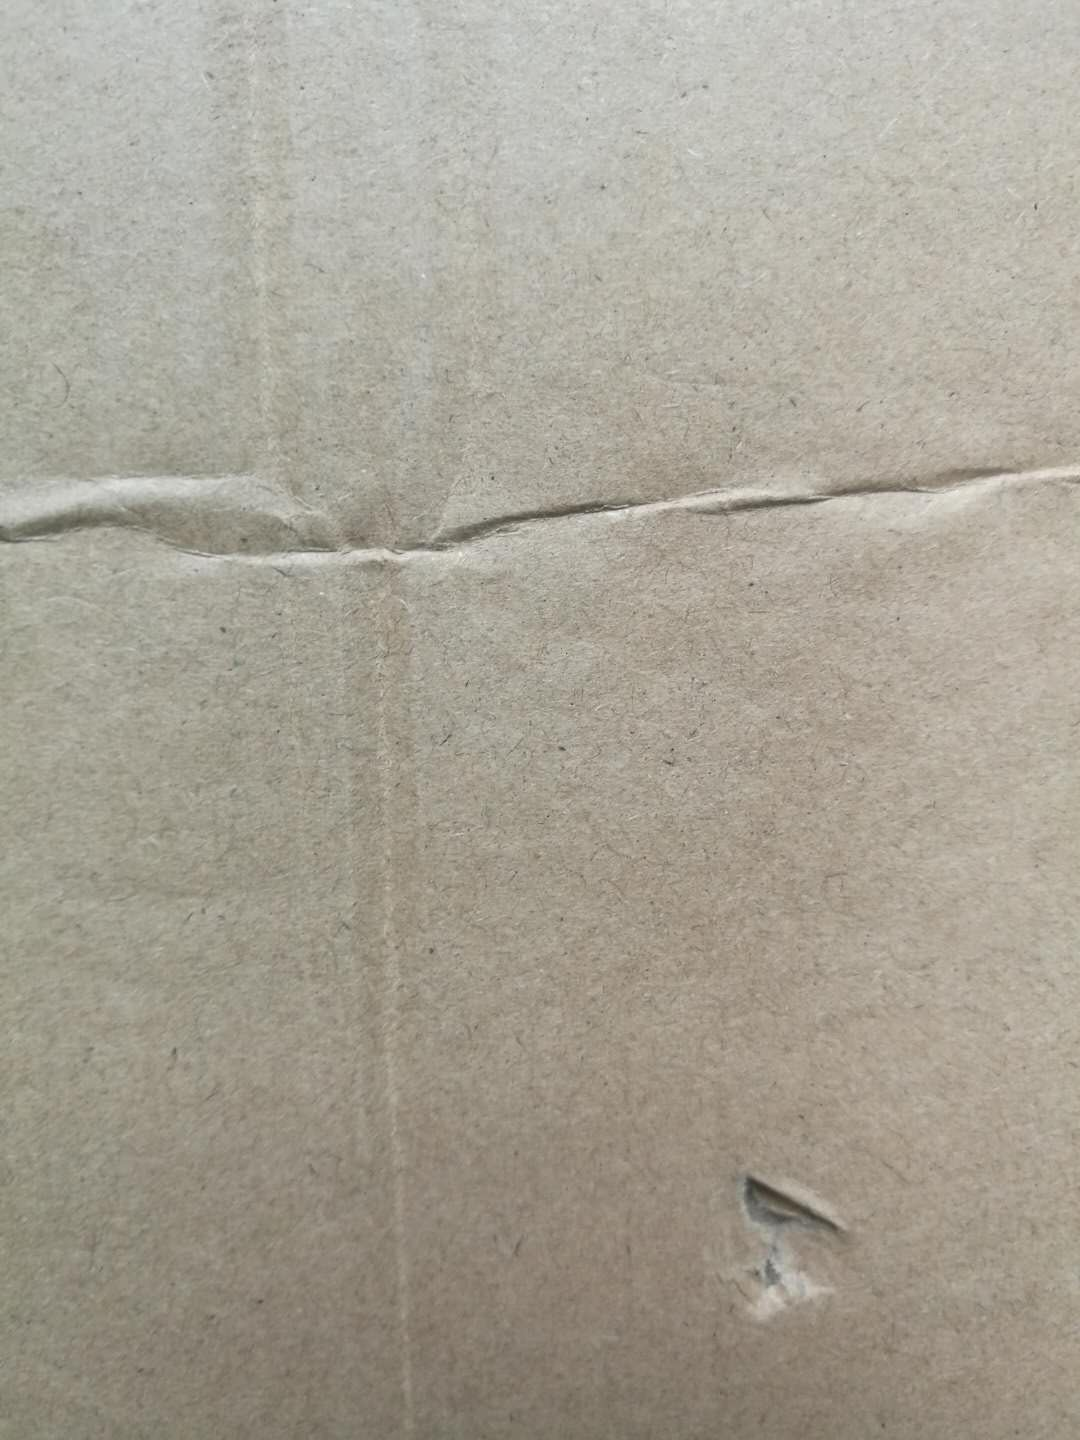defect: (5, 424, 1080, 610), (314, 552, 498, 1440), (206, 2, 339, 468), (694, 1136, 885, 1355)
